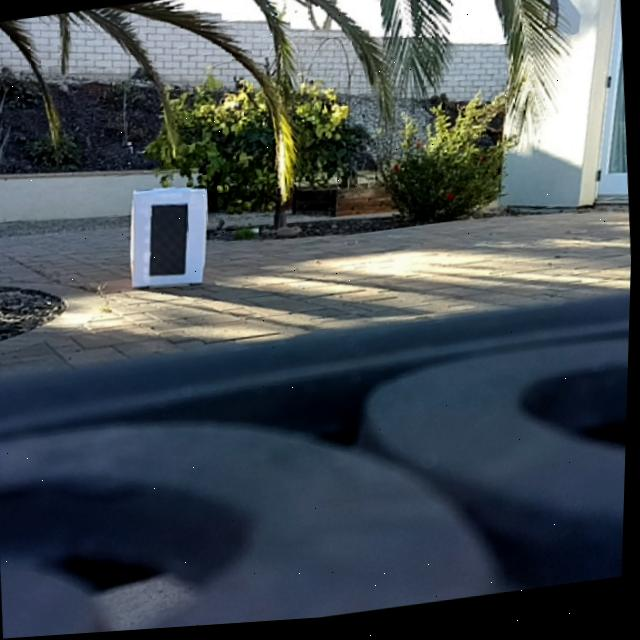led: (147, 204, 195, 280)
